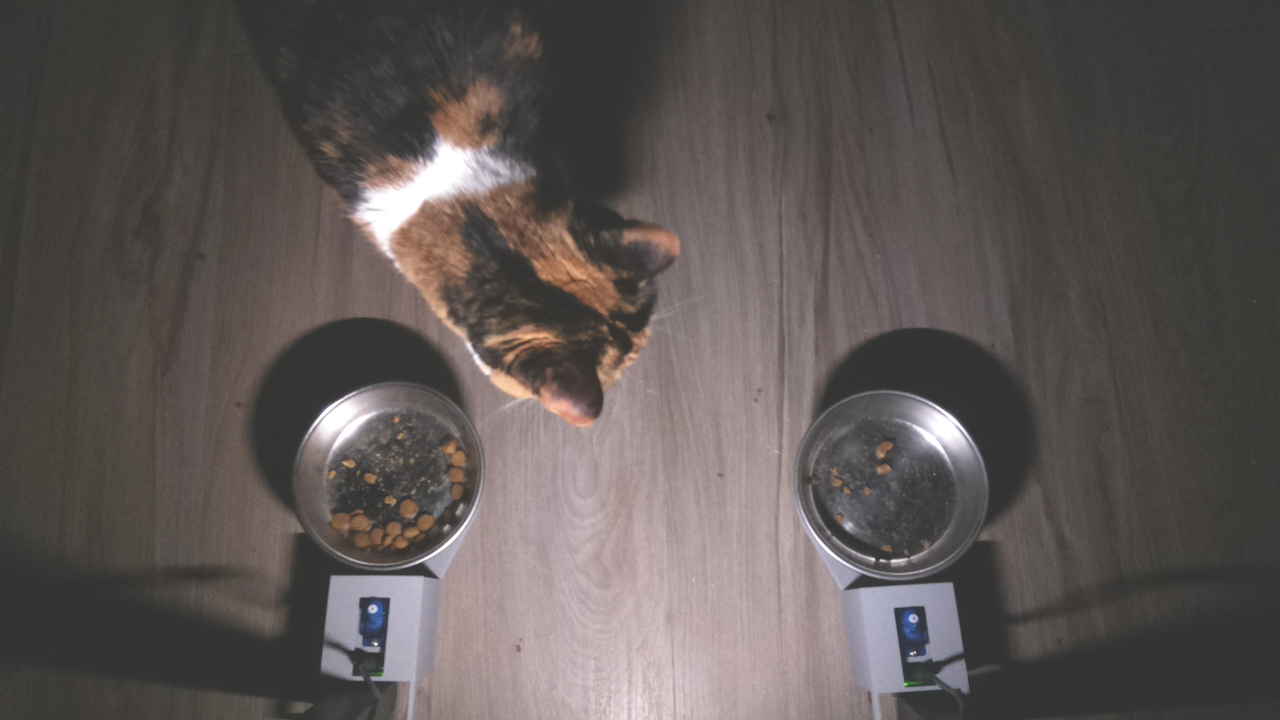bella: (435, 172, 708, 433)
open_bowl: (782, 385, 998, 590), (289, 368, 489, 575)
